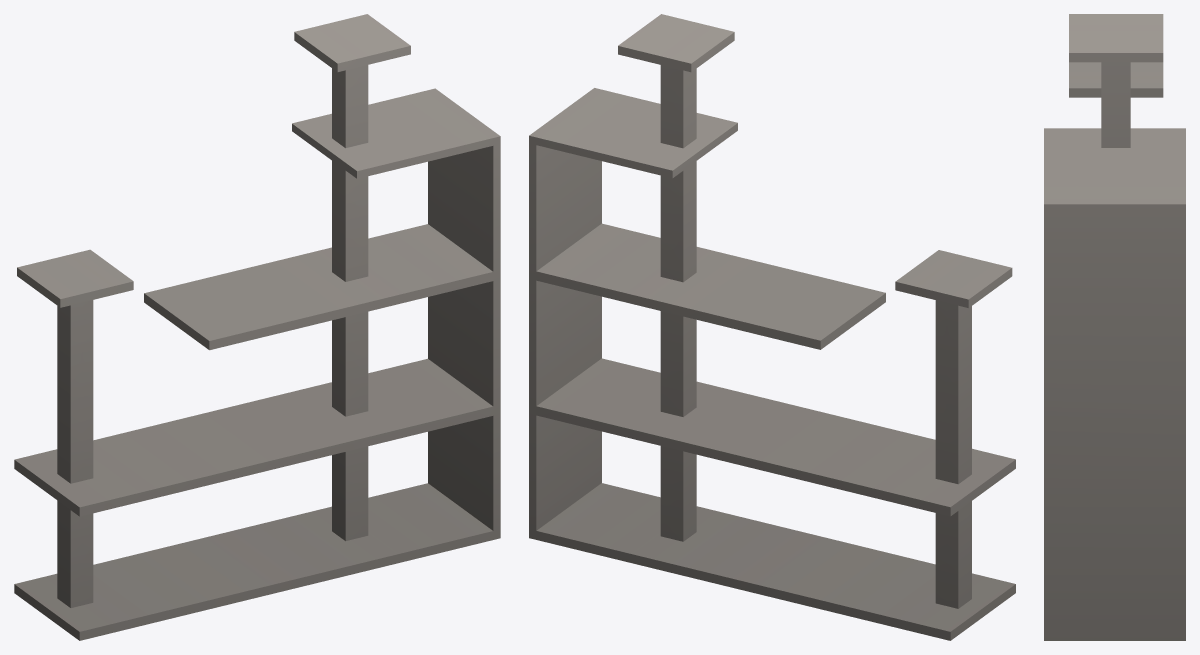
File: Shelving_3Tier_Stylised_Grey.fbx
The picture shows the model from 3 angles, left to right: view 1: azimuth 30°, elevation 25°; view 2: azimuth 150°, elevation 25°; view 3: azimuth 270°, elevation 25°; orthographic projection. The views are drawn at different scales.
Visible parts, largest first — view 1: Shelving_3Tier_Stylised_Grey; view 2: Shelving_3Tier_Stylised_Grey; view 3: Shelving_3Tier_Stylised_Grey.
Part boxes in pixels (left/top/right/bottom): Shelving_3Tier_Stylised_Grey: left=14, top=14, right=500, bottom=640; Shelving_3Tier_Stylised_Grey: left=529, top=14, right=1015, bottom=640; Shelving_3Tier_Stylised_Grey: left=1044, top=14, right=1185, bottom=640.
Bounding box in the file's own units: 134 × 150 × 35.28.
